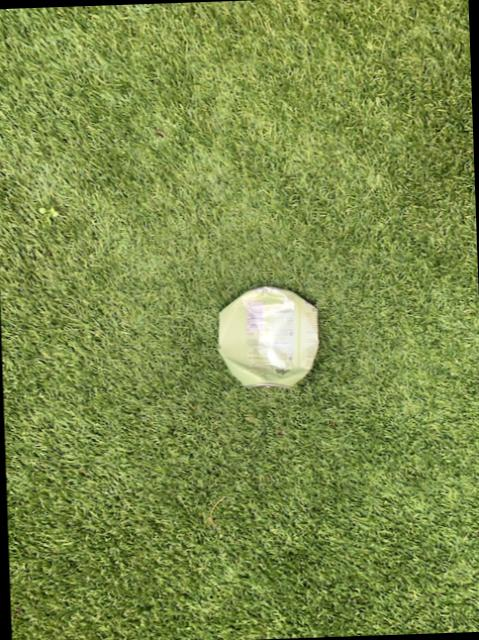metal: (219, 287, 319, 388)
